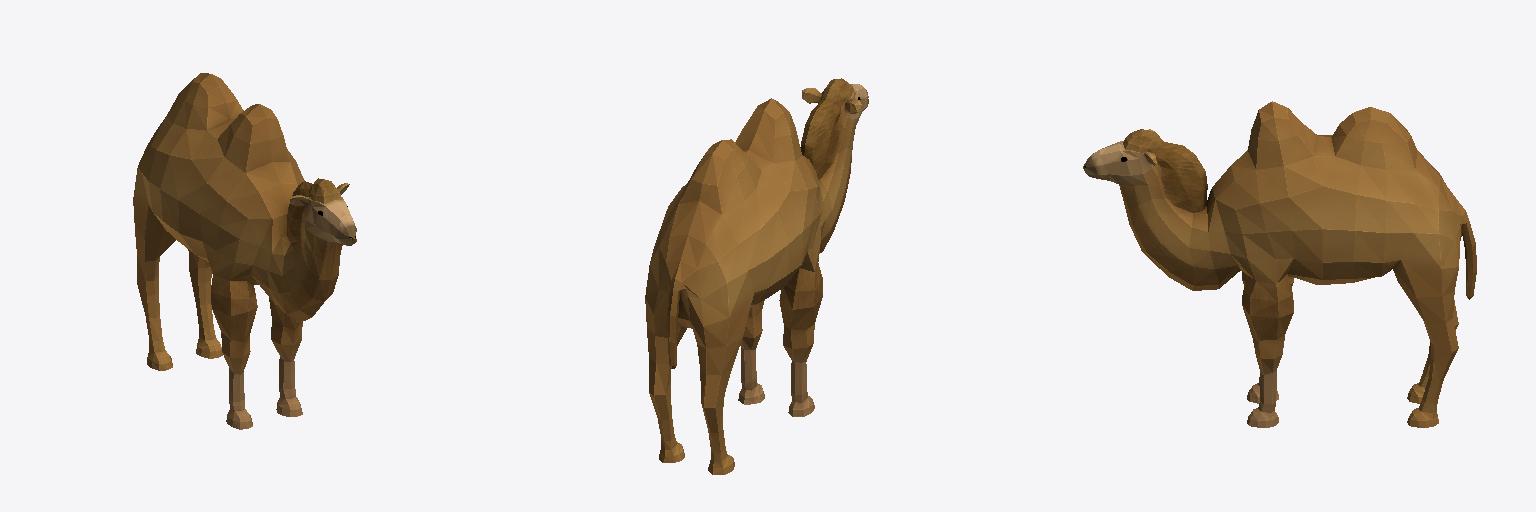
3 renders of one model, left to right at view 1: azimuth 30°, elevation 25°; view 2: azimuth 150°, elevation 25°; view 3: azimuth 270°, elevation 25°, orthographic.
Parts seen in each view (by area): view 1: BactrianCamel_Mesh; view 2: BactrianCamel_Mesh; view 3: BactrianCamel_Mesh.
Part boxes in pixels (x1,y1,x2,y2): BactrianCamel_Mesh: (133,73,356,429); BactrianCamel_Mesh: (645,78,868,474); BactrianCamel_Mesh: (1083,101,1476,427).
Size of the model in its own units: 3.83 by 9.73 by 11.22.
1 materials, 1 textured.